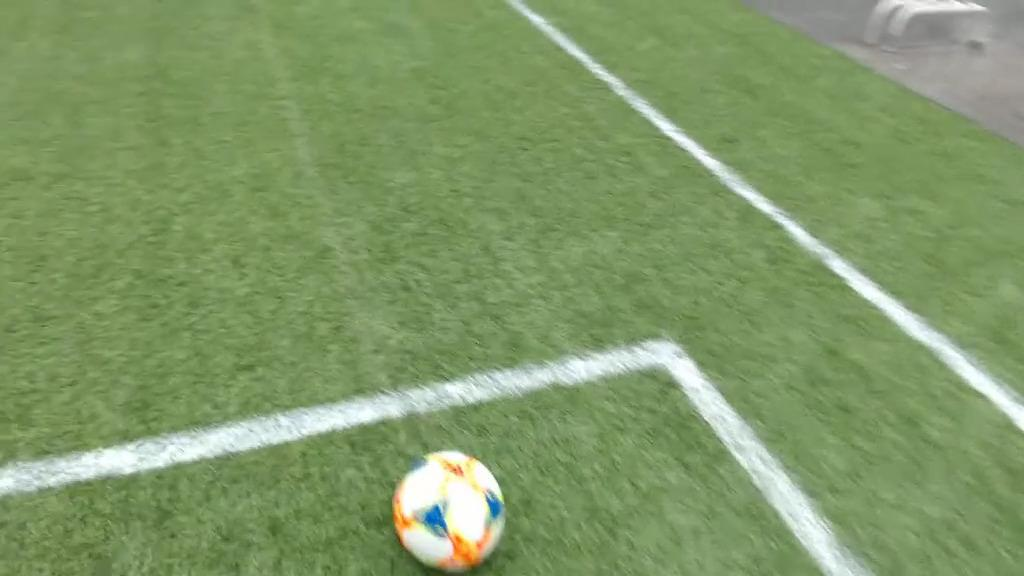ball: (389, 437, 510, 576)
